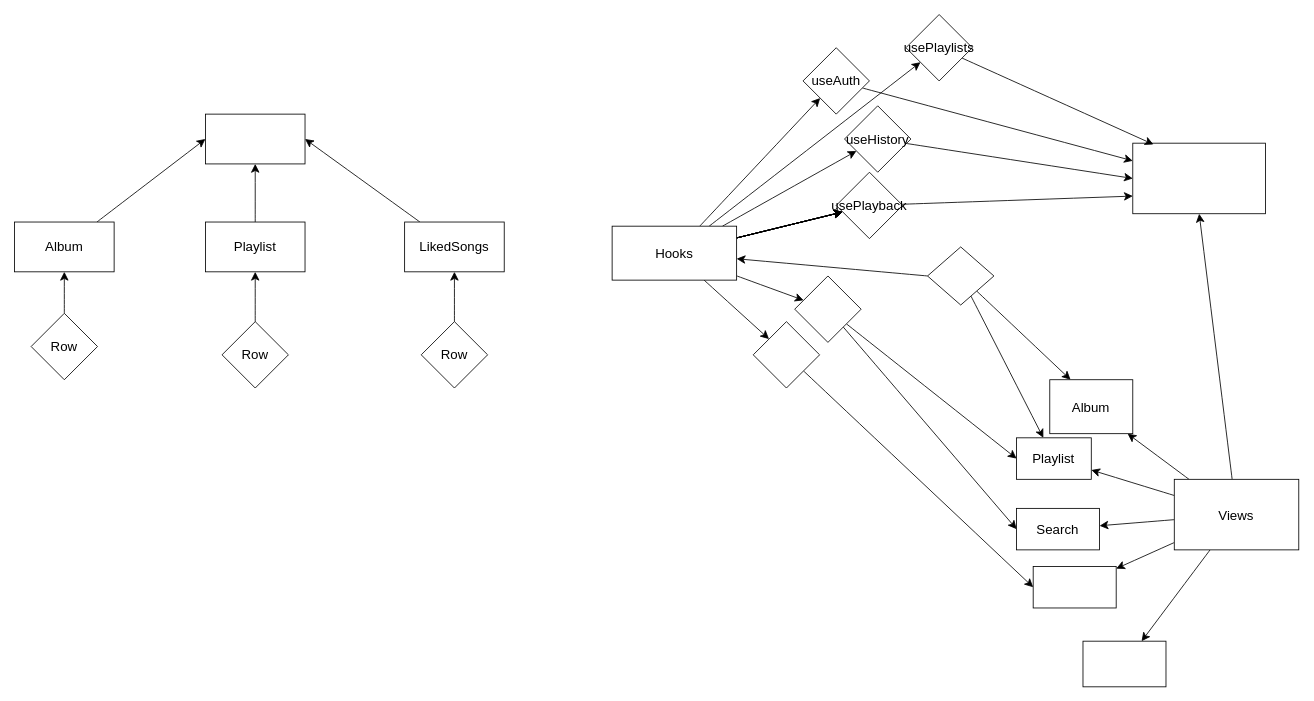
Image size: 1314x701. Some labels were removed from this diagram. Each missing label, with the centre of its shape:
"Dashboard" belongs at (x=1199, y=178).
"Home" belongs at (x=1124, y=663).
"SavedSongs" belongs at (x=1074, y=587).
"TrackTable" belongs at (x=255, y=138).
"usePlaylist" belongs at (x=960, y=275).
"useSearch" belongs at (x=827, y=308).
"useTracks" belongs at (x=786, y=354).
